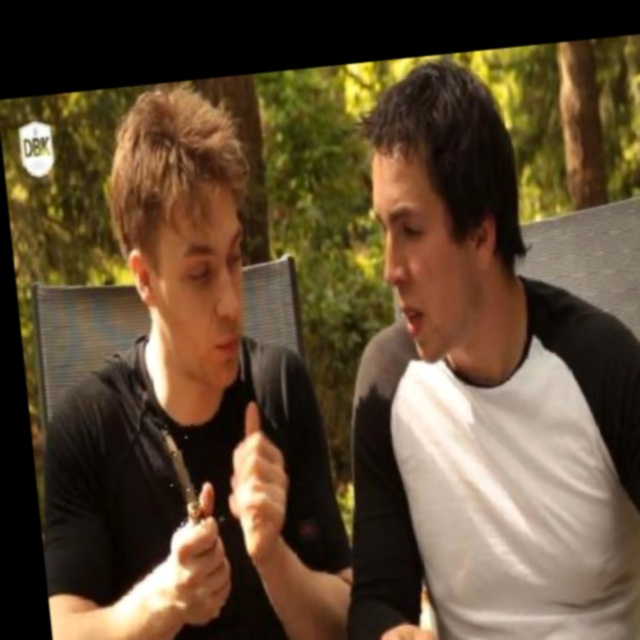Sharp-Object: (164, 424, 204, 529)
